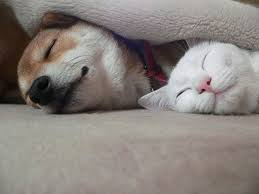cat: (140, 34, 259, 119)
dog: (16, 11, 169, 115)
